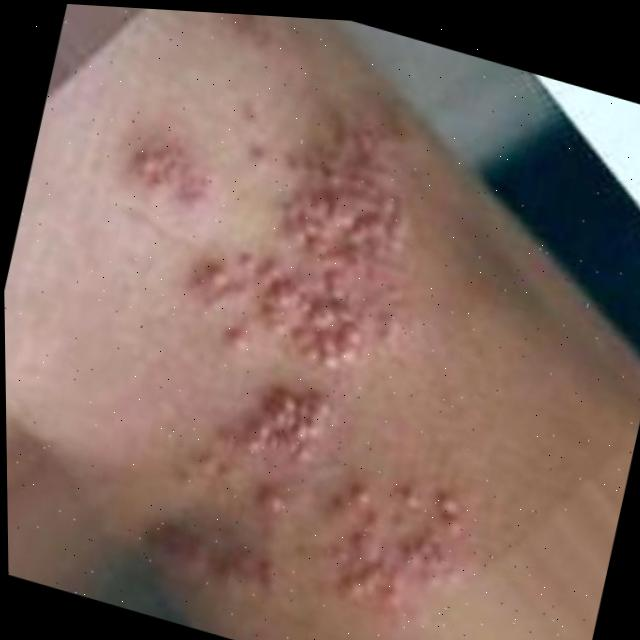Shingles: (99, 45, 451, 388), (154, 357, 520, 640)
